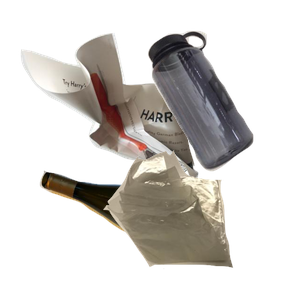glass: (37, 168, 242, 300)
paper: (18, 30, 213, 210)
plastic: (145, 28, 300, 192)
trash: (101, 148, 300, 300)
